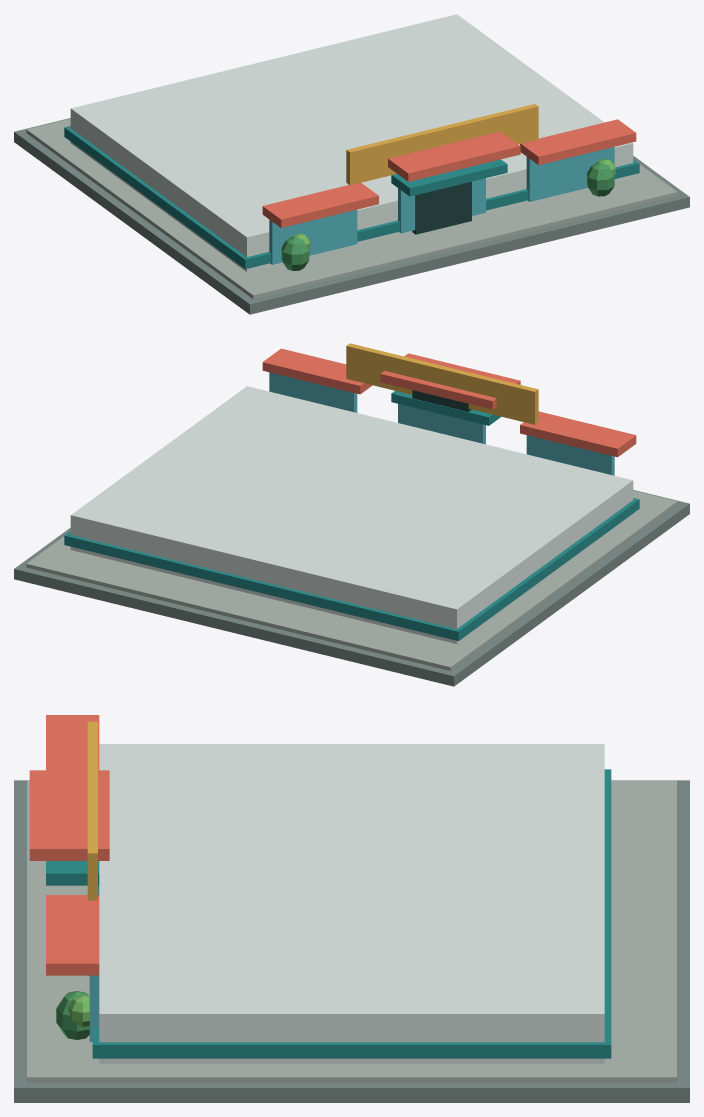
The model's file is supermarket_lv1.glb.
3 views of the same model, one above another, from view 1: azimuth 30°, elevation 25°; view 2: azimuth 150°, elevation 25°; view 3: azimuth 270°, elevation 25° (orthographic). The views are drawn at different scales.
Parts seen in each view (by area): view 1: white, concrete, pavement, coral, glass, teal, gold, dark, green; view 2: white, concrete, pavement, teal, coral, gold, glass; view 3: white, concrete, pavement, coral, teal, gold, green, glass, foliage.
Part boxes in pixels (x1,y1,x2,y2): white: [70, 14, 633, 272]; concrete: [26, 118, 677, 298]; pavement: [14, 118, 689, 314]; coral: [262, 119, 636, 227]; glass: [269, 147, 614, 264]; teal: [64, 126, 639, 269]; gold: [346, 104, 538, 185]; dark: [412, 181, 471, 234]; green: [281, 163, 614, 270]; white: [70, 386, 633, 643]; concrete: [26, 490, 677, 670]; pavement: [14, 490, 689, 686]; teal: [64, 391, 639, 640]; coral: [262, 348, 636, 457]; gold: [346, 343, 538, 424]; glass: [269, 372, 614, 475]; white: [99, 744, 604, 1063]; concrete: [27, 780, 676, 1082]; pavement: [14, 780, 689, 1102]; coral: [29, 715, 109, 975]; teal: [46, 769, 611, 1058]; gold: [87, 721, 97, 900]; green: [56, 991, 89, 1039]; glass: [89, 885, 98, 1041]; foliage: [68, 994, 89, 1026].
Bounding box in the file's own units: 9.8 × 2.4 × 9.1.
